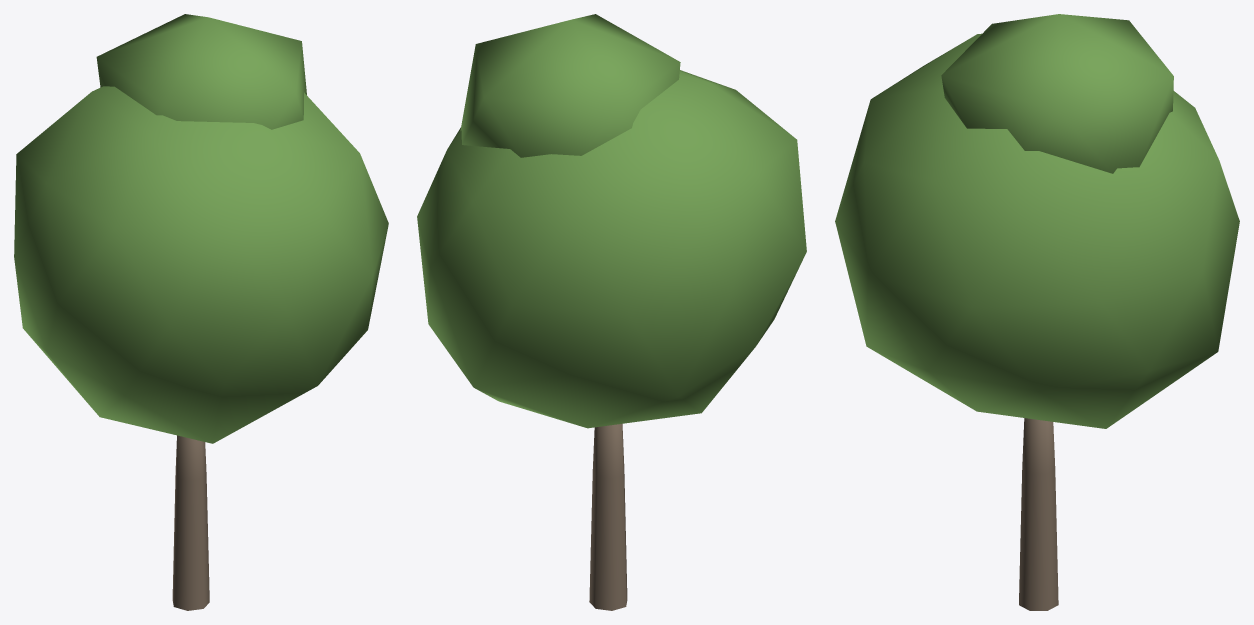
Rendered from lime.glb.
3 renders of one model, left to right at view 1: azimuth 30°, elevation 25°; view 2: azimuth 150°, elevation 25°; view 3: azimuth 270°, elevation 25°, orthographic. The views are drawn at different scales.
Parts seen in each view (by area): view 1: lime; view 2: lime; view 3: lime.
Part boxes in pixels (x1,y1,x2,y2): lime: (14, 14, 388, 610); lime: (417, 14, 806, 610); lime: (835, 14, 1239, 610).
Size of the model in its own units: 5.93 by 9.8 by 5.96.
